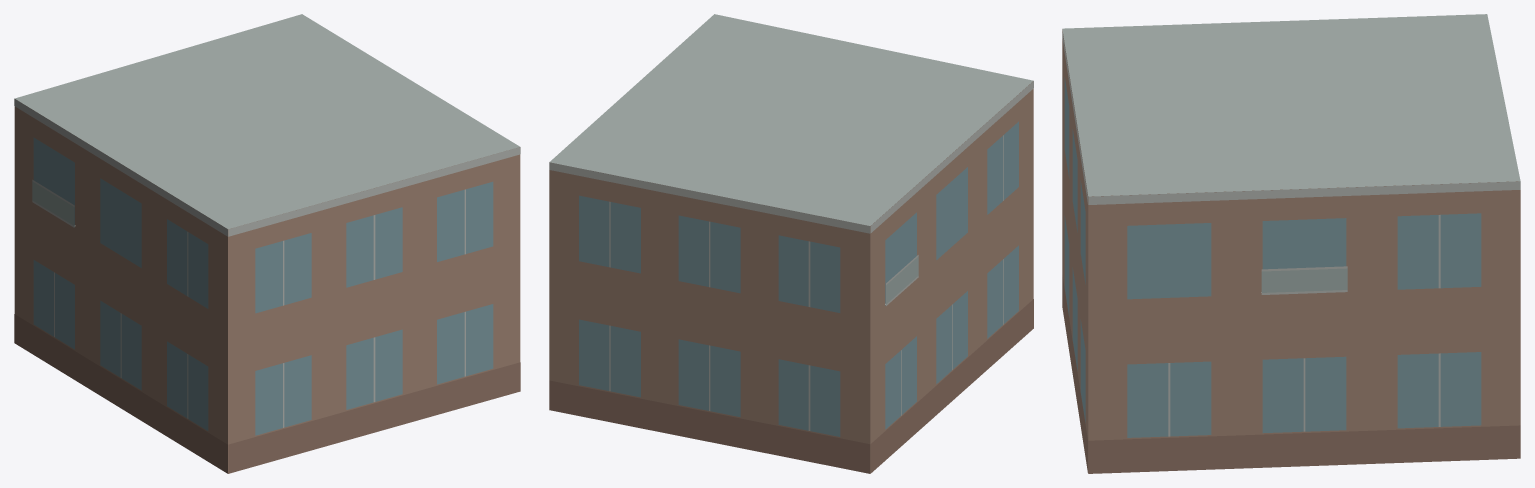
Rendered from survey-upis-32928118.glb.
The picture shows the model from 3 angles, left to right: view 1: azimuth 30°, elevation 25°; view 2: azimuth 150°, elevation 25°; view 3: azimuth 270°, elevation 25°; orthographic projection. The views are drawn at different scales.
Parts seen in each view (by area): view 1: survey-upis-32928118.tmp; view 2: survey-upis-32928118.tmp; view 3: survey-upis-32928118.tmp.
Part boxes in pixels (x1,y1,x2,y2): survey-upis-32928118.tmp: (14, 14, 520, 473); survey-upis-32928118.tmp: (549, 14, 1033, 473); survey-upis-32928118.tmp: (1062, 14, 1520, 473).
Bounding box in the file's own units: 11.16 × 7.9 × 11.84.
